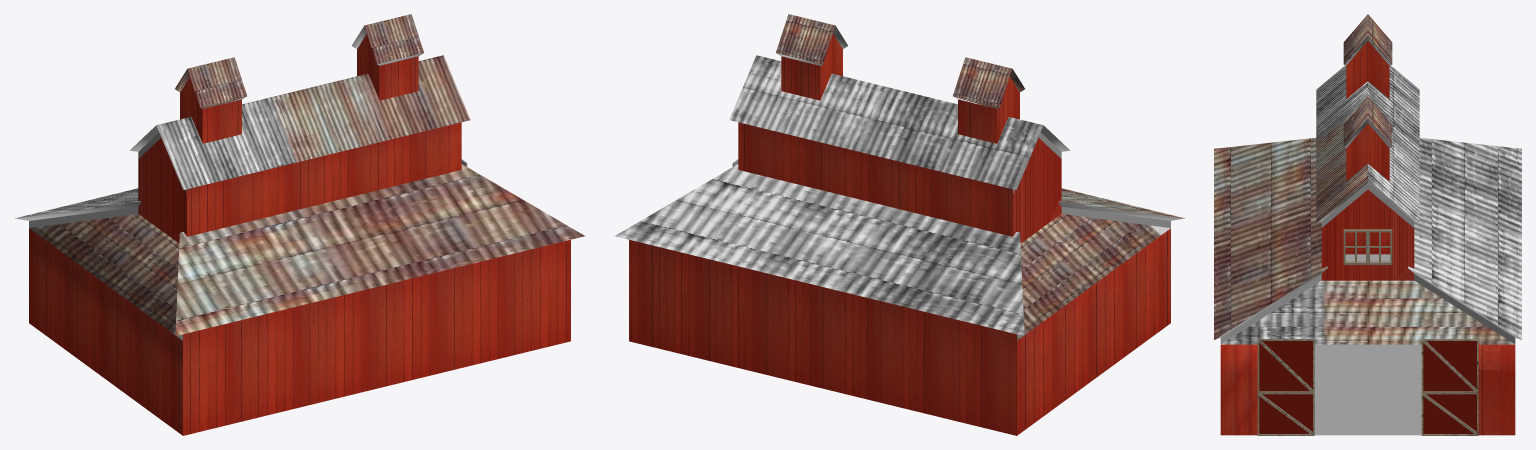
Rendered from BarnLv2.fbx.
The picture shows the model from 3 angles, left to right: view 1: azimuth 30°, elevation 25°; view 2: azimuth 150°, elevation 25°; view 3: azimuth 270°, elevation 25°; orthographic projection. The views are drawn at different scales.
Visible parts, largest first — view 1: pCube1, pCube2, pCube3; view 2: pCube1, pCube2, pCube3; view 3: pCube1, pCube10, pCube11, pCube2, pCube3.
Boxes of the visible parts, bbox=[...] form: pCube1: bbox=[15, 55, 585, 435]; pCube2: bbox=[352, 14, 423, 100]; pCube3: bbox=[175, 57, 246, 143]; pCube1: bbox=[614, 55, 1184, 435]; pCube2: bbox=[776, 14, 847, 100]; pCube3: bbox=[953, 57, 1024, 143]; pCube1: bbox=[1214, 65, 1521, 435]; pCube10: bbox=[1257, 339, 1314, 435]; pCube11: bbox=[1421, 339, 1478, 435]; pCube2: bbox=[1343, 97, 1392, 181]; pCube3: bbox=[1343, 14, 1392, 98].
Bounding box in the file's own units: 25.48 × 17.28 × 17.32.
Materials: 10 (8 with a texture image).
